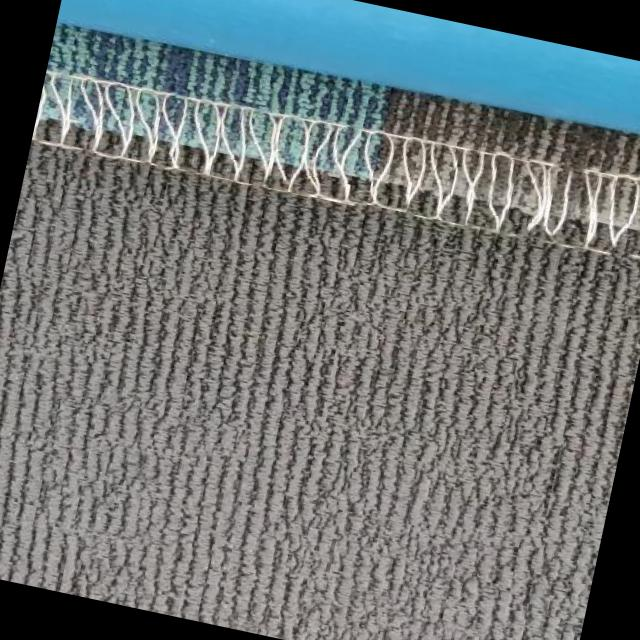gray stitch: (32, 47, 640, 280)
